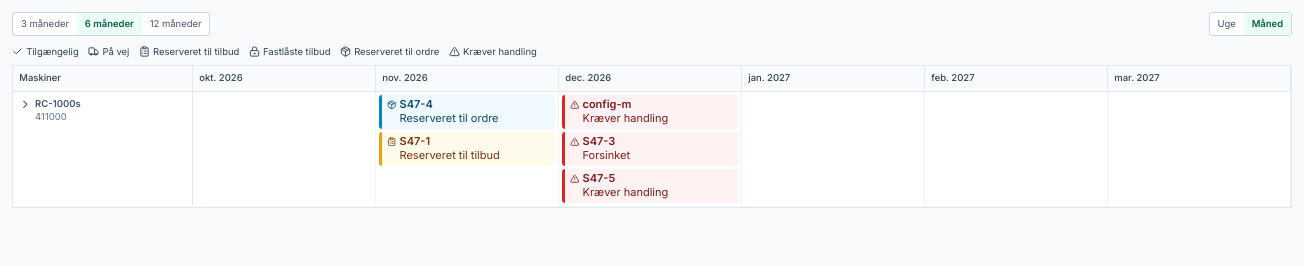
Planning incoming supply and timeline projections › renders a scroll-contained visual time axis and canonical unit blocks
The width and height of the screenshot is (1304, 266).
Later steps or results of the test are not shown.
Check: the text "RC-1000s" is shown, box [35,98,81,109]
Check: the button "S47-3 Forsinket" is shown, box [562,132,738,166]
Click the button "S47-1 Reserveret til tilbud" at (467, 149), box [379,132,555,166]
Click the button "config-m Kræver handling" at (650, 112), box [562,95,738,129]
Click the button "3 måneder" at (45, 24), box [13,13,77,35]
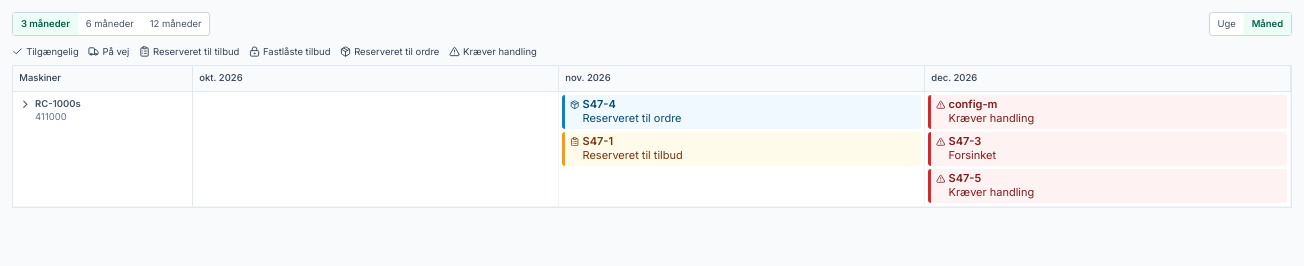
Check: the button "3 måneder" is pressed, box [13,13,78,35]
Click the button "Uge" at (1227, 24), box [1210,13,1244,35]
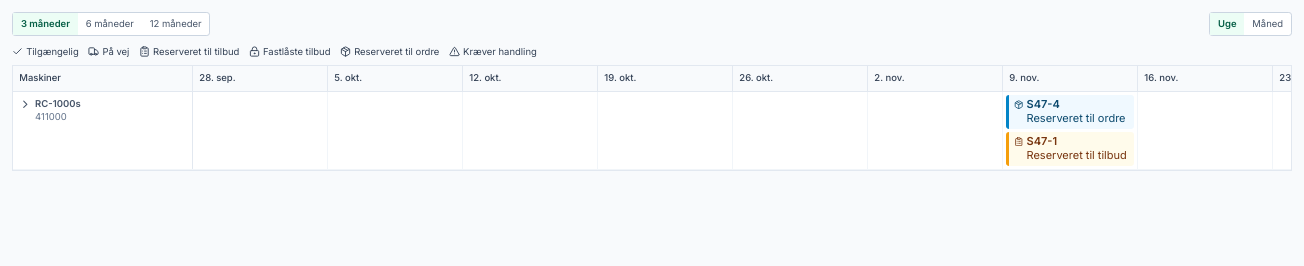
Check: the button "Uge" is pressed, box [1210,13,1244,35]
Click the button named "Redskaber: RC-1000s" at (26, 104), box [19,98,32,111]
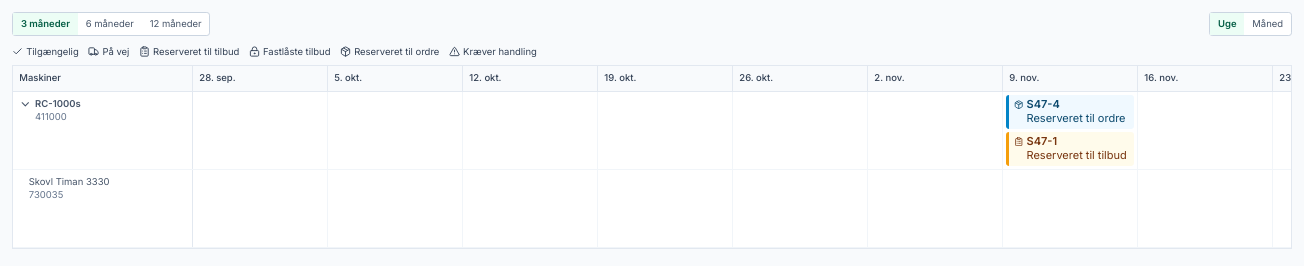
Check: the text "Skovl Timan 3330" is shown, box [29,176,110,187]
